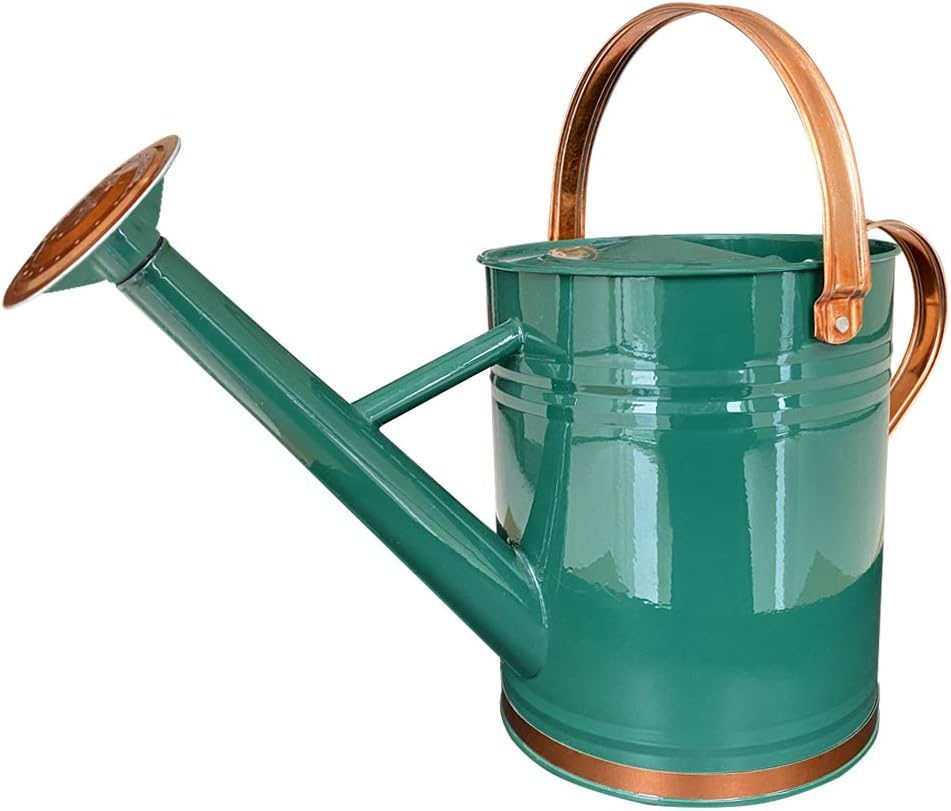can: (1, 2, 949, 811)
